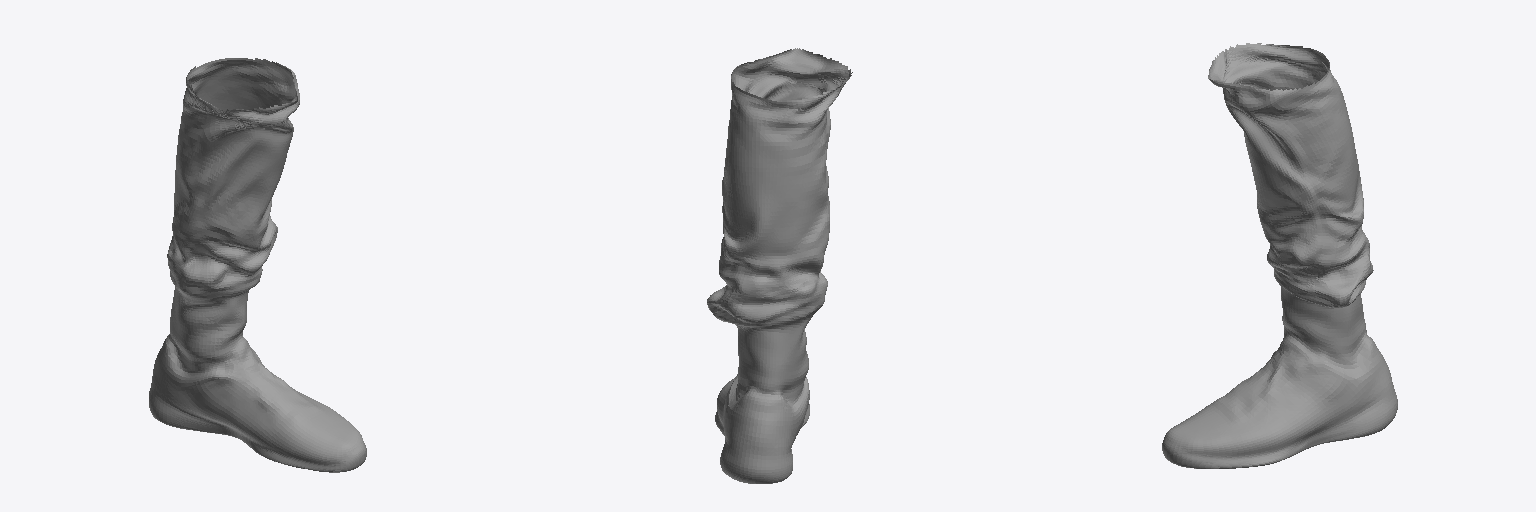
Rendered from pie2.obj.
3 renders of one model, left to right at view 1: azimuth 30°, elevation 25°; view 2: azimuth 150°, elevation 25°; view 3: azimuth 270°, elevation 25°, orthographic.
Parts seen in each view (by area): view 1: RUST_3d_Low.001; view 2: RUST_3d_Low.001; view 3: RUST_3d_Low.001.
Part boxes in pixels (left/top/right/bottom): RUST_3d_Low.001: left=149, top=58, right=366, bottom=472; RUST_3d_Low.001: left=707, top=48, right=852, bottom=483; RUST_3d_Low.001: left=1162, top=43, right=1397, bottom=468.
Size of the model in its own units: 17.04 by 44.15 by 25.92.